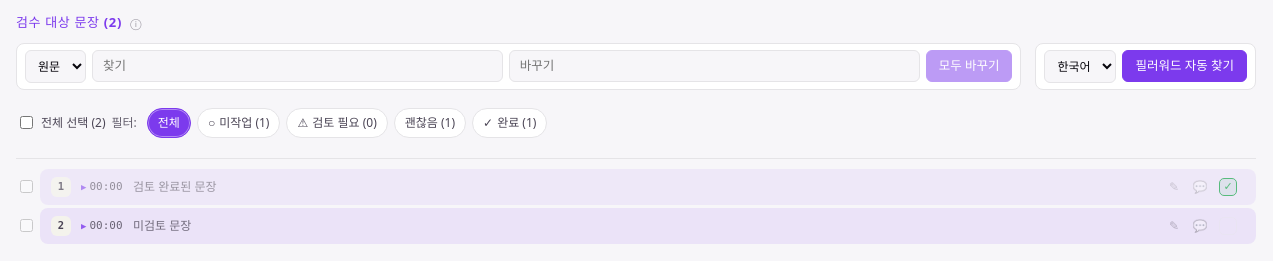
SegmentList › filters to only reviewed segments when the 완료 tab is clicked
The image size is (1273, 261).
Click the button "✓ 완료 (1)" at (510, 122), box top-left (472, 108), bottom-right (548, 138)
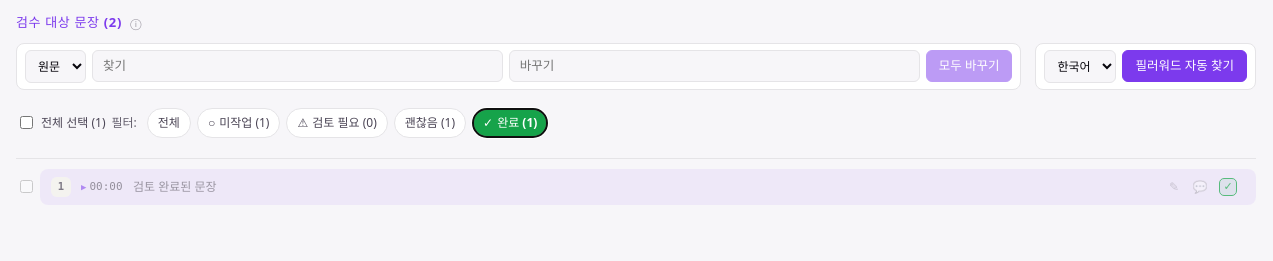
Expected: the text "검토 완료된 문장" is shown, top-left (133, 178), bottom-right (216, 194)
Expected: the button "미검토 문장" is gone
